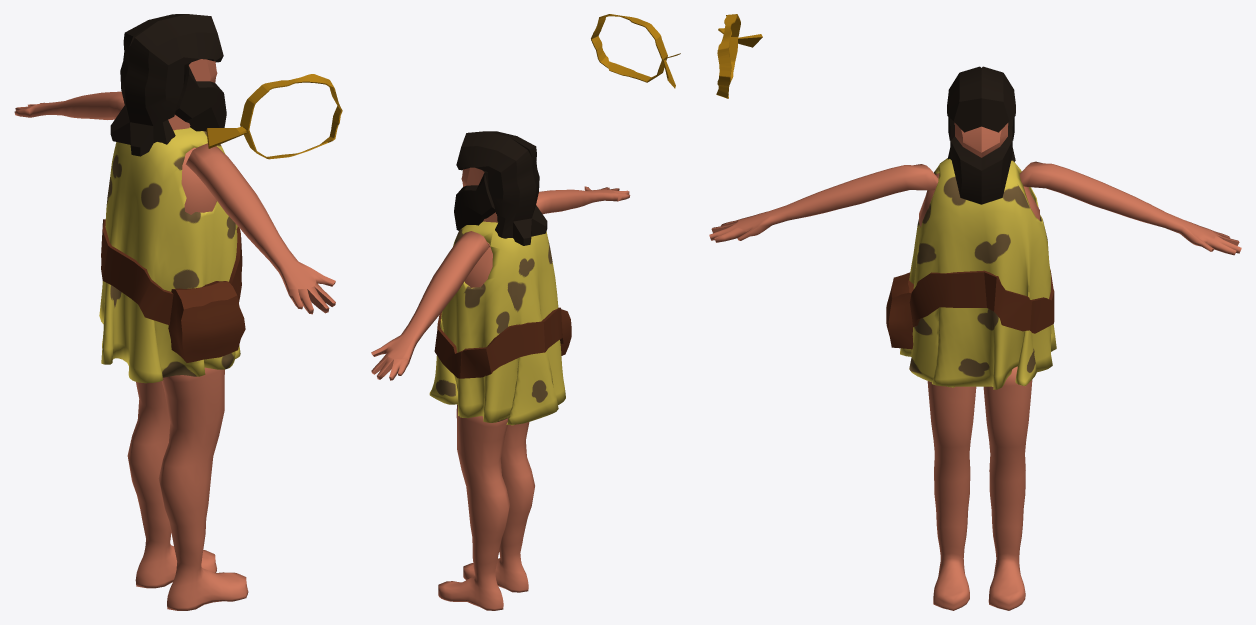
File: caveman_2_tpose.obj
3 renders of one model, left to right at view 1: azimuth 30°, elevation 25°; view 2: azimuth 150°, elevation 25°; view 3: azimuth 270°, elevation 25°, orthographic. The views are drawn at different scales.
Parts seen in each view (by area): view 1: Caveman_2_Slinger_Mesh; view 2: Caveman_2_Slinger_Mesh; view 3: Caveman_2_Slinger_Mesh.
Part boxes in pixels (x1,y1,x2,y2): Caveman_2_Slinger_Mesh: (14, 14, 342, 610); Caveman_2_Slinger_Mesh: (371, 14, 680, 610); Caveman_2_Slinger_Mesh: (709, 14, 1241, 610).
Size of the model in its own units: 0.5232 by 1.95 by 1.7.
